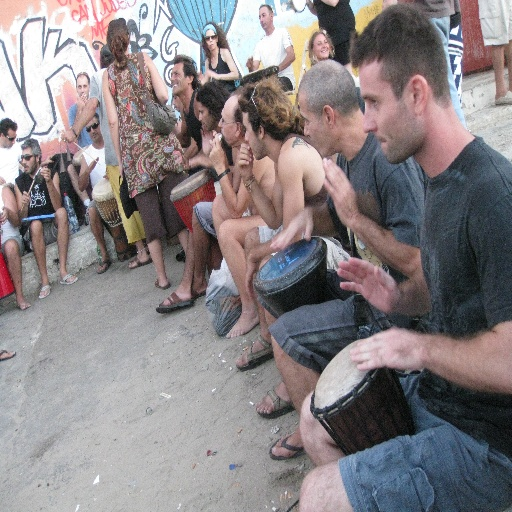hand: (348, 323, 427, 372), (336, 256, 398, 303), (323, 156, 361, 227), (268, 206, 315, 255), (243, 247, 261, 300), (206, 133, 227, 171), (235, 142, 255, 179), (85, 155, 98, 177), (75, 91, 88, 111), (60, 128, 77, 143), (20, 190, 32, 208), (39, 165, 51, 182), (0, 204, 9, 226), (43, 152, 56, 166), (205, 69, 219, 81), (243, 55, 255, 69), (198, 70, 204, 82), (0, 176, 6, 184), (102, 172, 108, 180)
